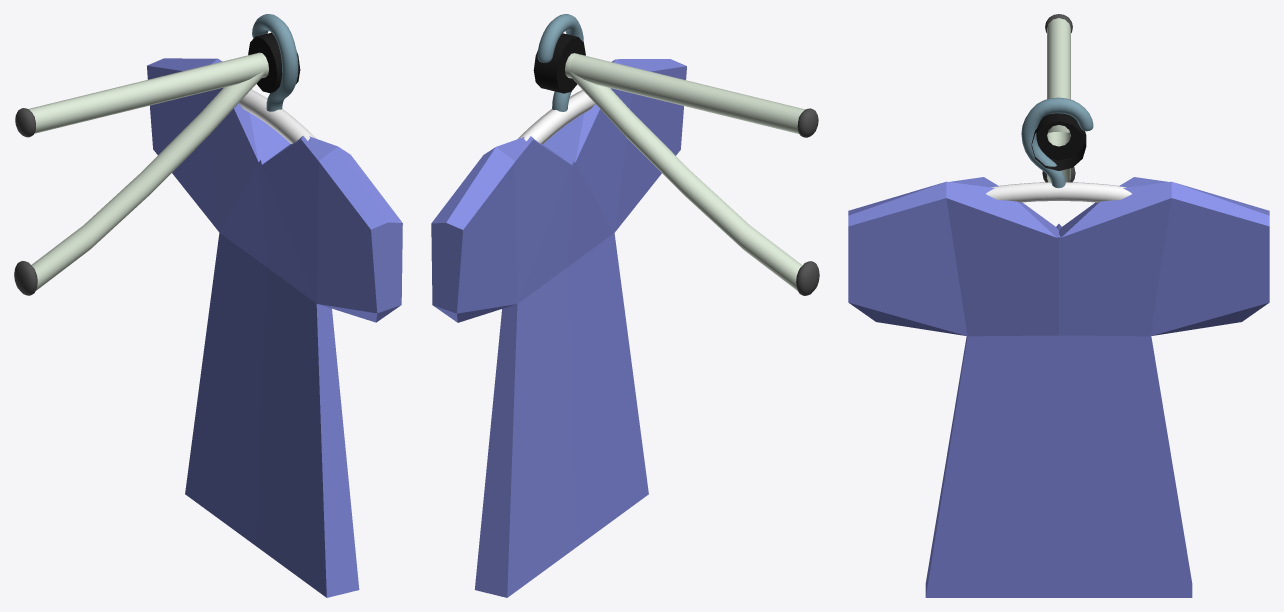
File: cloth_set (1).fbx
The picture shows the model from 3 angles, left to right: view 1: azimuth 30°, elevation 25°; view 2: azimuth 150°, elevation 25°; view 3: azimuth 270°, elevation 25°; orthographic projection. The views are drawn at different scales.
Parts seen in each view (by area): view 1: Cube.032, Cylinder.003, cloth_close; view 2: Cube.032, Cylinder.003, cloth_close; view 3: Cube.032, Cylinder.003.
Boxes of the visible parts, x1,y1,x2,y2 form: Cube.032: (147,14,402,597); Cylinder.003: (15,32,300,137); cloth_close: (14,53,268,295); Cube.032: (431,14,686,597); Cylinder.003: (533,33,818,137); cloth_close: (565,53,819,295); Cube.032: (848,97,1269,597); Cylinder.003: (1031,14,1086,170).
Bounding box in the file's own units: 144 × 254 × 197.
